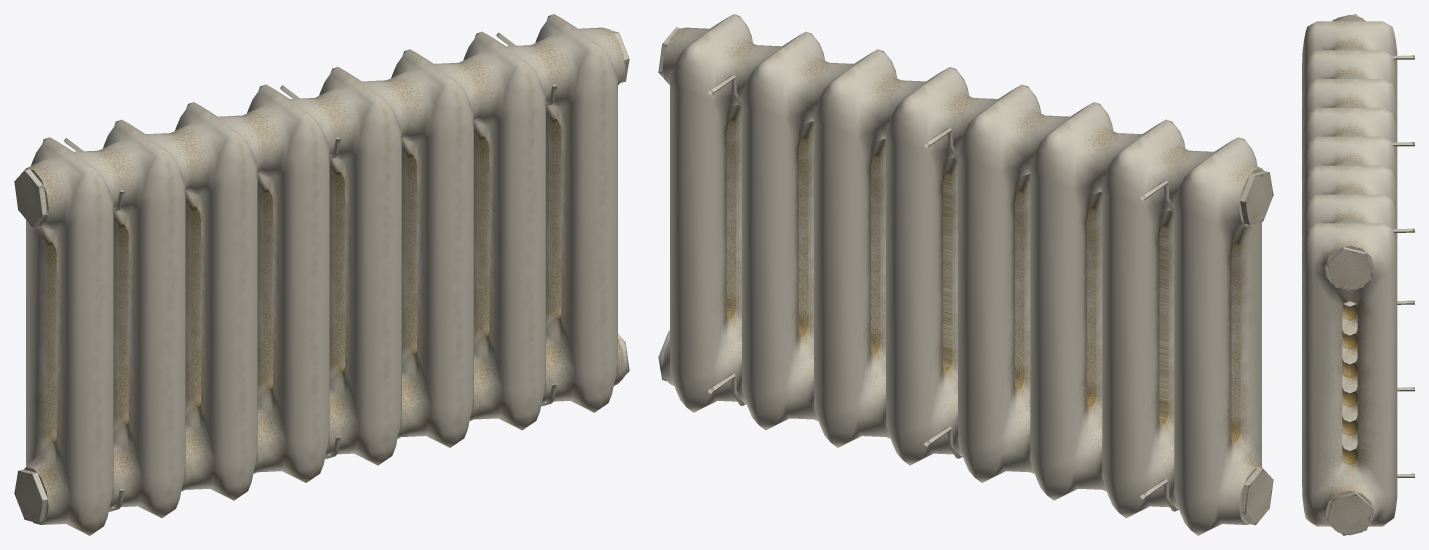
The model's file is SM_Radiator01B.FBX.
The picture shows the model from 3 angles, left to right: view 1: azimuth 30°, elevation 25°; view 2: azimuth 150°, elevation 25°; view 3: azimuth 270°, elevation 25°; orthographic projection. The views are drawn at different scales.
Visible parts, largest first — view 1: SM_Radiator01B_LOD0; view 2: SM_Radiator01B_LOD0; view 3: SM_Radiator01B_LOD0.
Boxes of the visible parts, x1,y1,x2,y2 form: SM_Radiator01B_LOD0: (14,14,629,535); SM_Radiator01B_LOD0: (658,14,1273,535); SM_Radiator01B_LOD0: (1302,14,1414,535).
Size of the model in its own units: 111 by 22.55 by 66.94.
